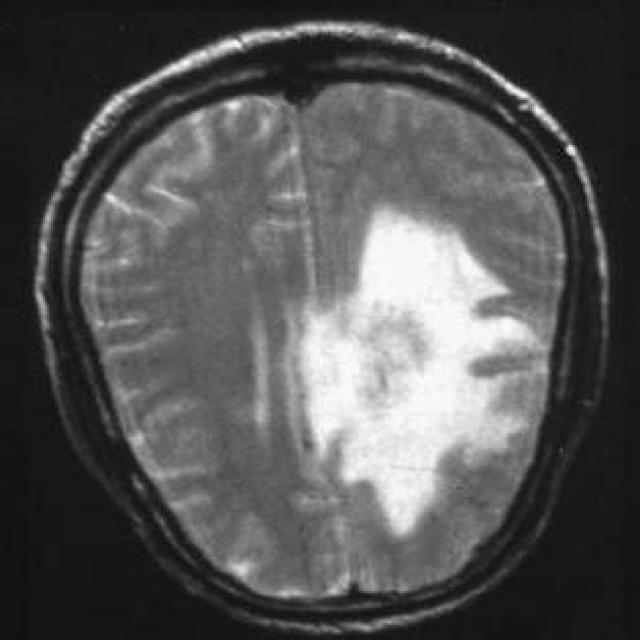brain tumor: (300, 209, 552, 535)
